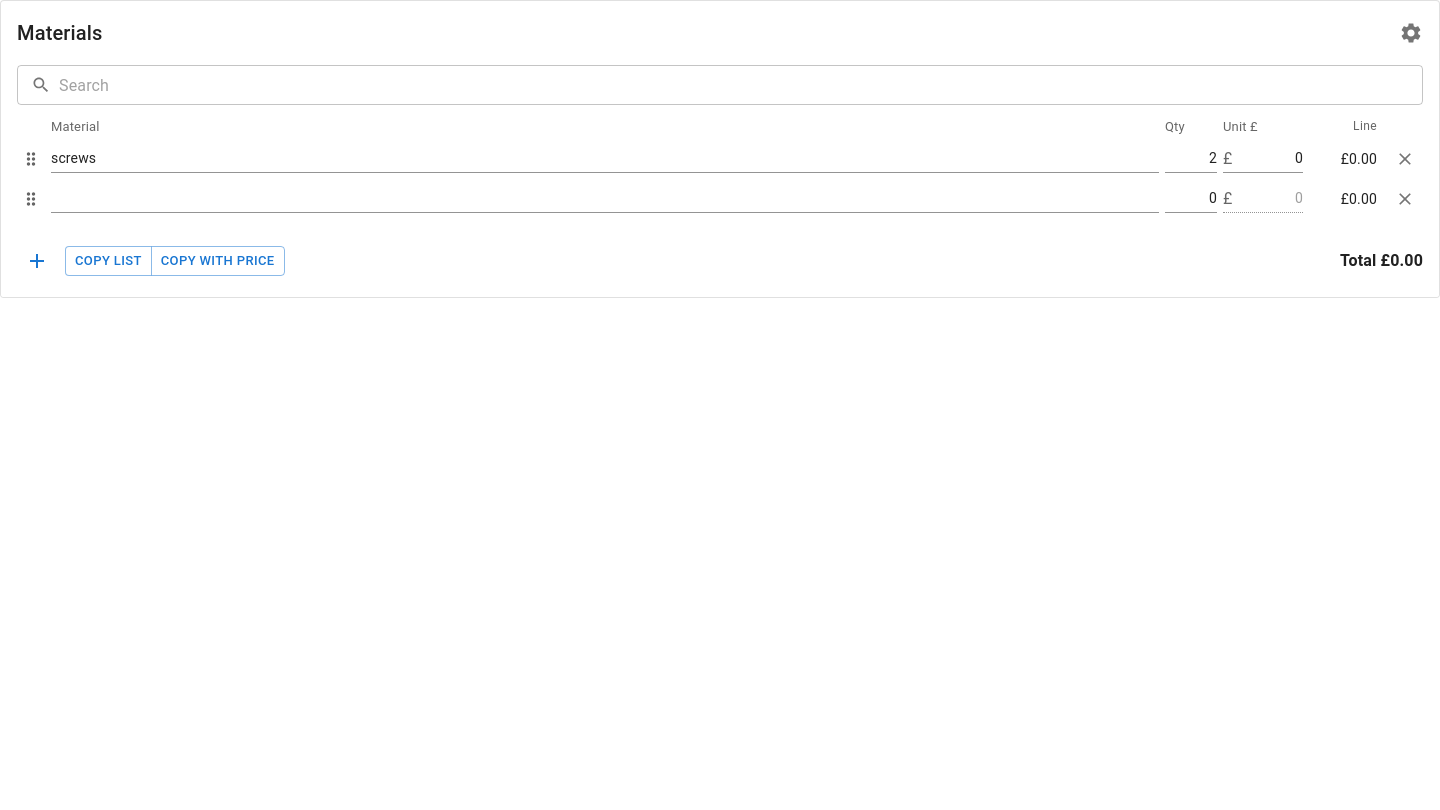
merging a duplicate › adds the duplicate's quantity rather than counting it as one
Type "3x screws" into the 2nd dropdown named "Material name" at (605, 198), box [51,184,1159,212]
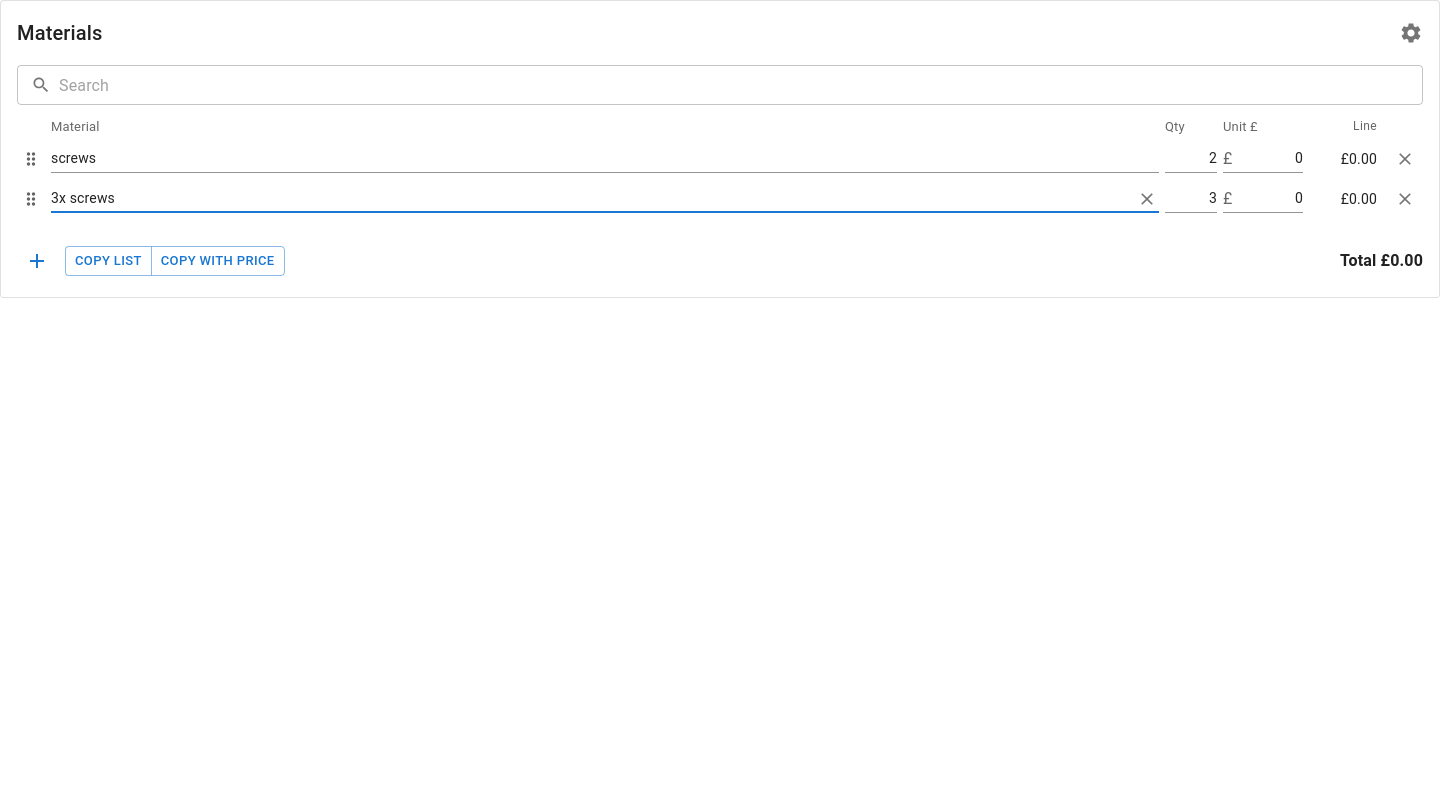
Press Tab
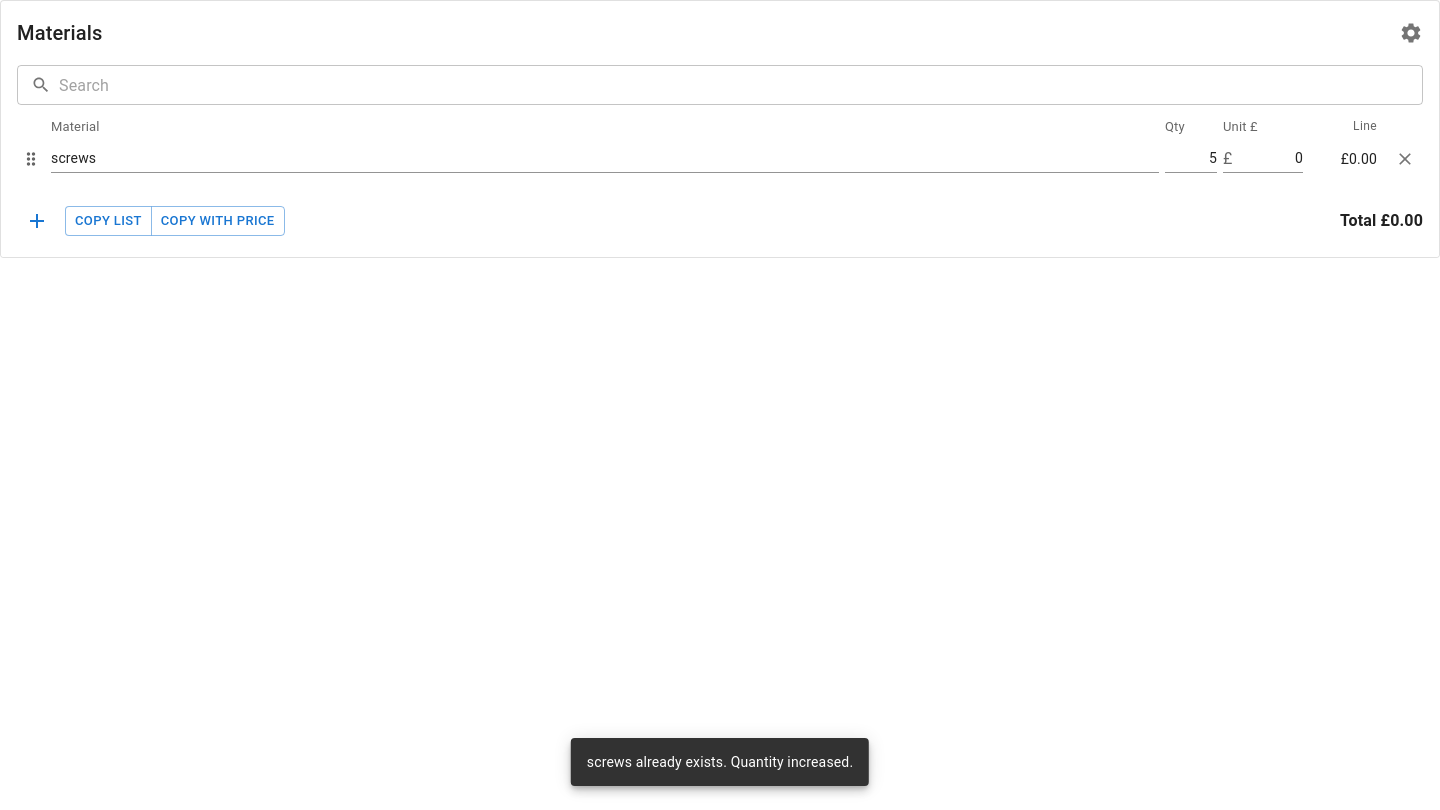
Expected: the field named "Quantity for screws" holds "5", [1165,144,1217,173]
